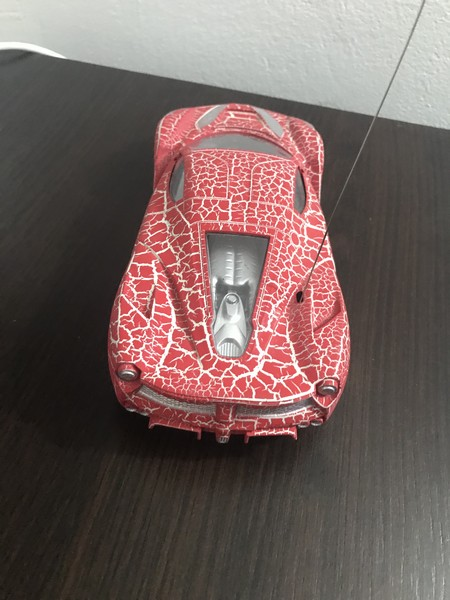RC: (102, 100, 352, 449)
